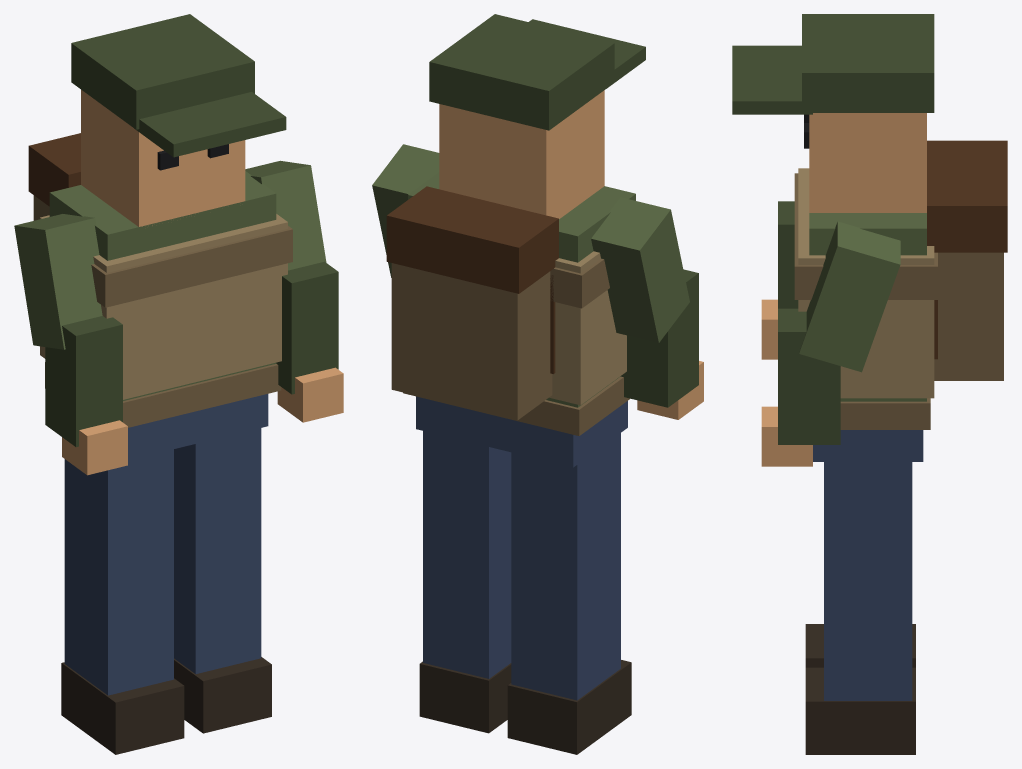
The model's file is char_ranger.glb.
3 views of the same model, side by side, from view 1: azimuth 30°, elevation 25°; view 2: azimuth 150°, elevation 25°; view 3: azimuth 270°, elevation 25° (orthographic).
Visible parts, largest first — view 1: char_ranger; view 2: char_ranger; view 3: char_ranger.
Part boxes in pixels (bbox=[...]): char_ranger: bbox=[14, 14, 343, 754]; char_ranger: bbox=[372, 14, 703, 754]; char_ranger: bbox=[732, 14, 1007, 754].
Size of the model in its own units: 0.85 by 2.02 by 0.75.
